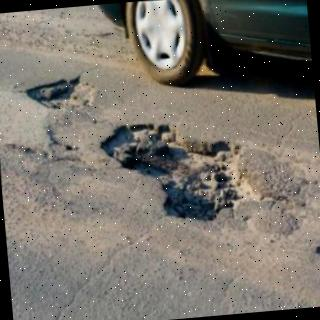pothole: (99, 124, 288, 222), (24, 76, 99, 111)
